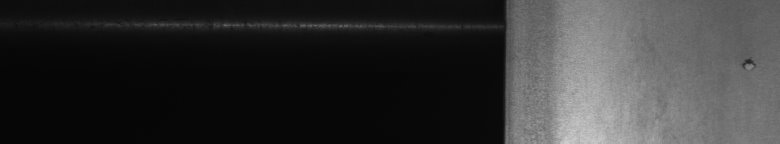fi: (740, 56, 756, 72)
